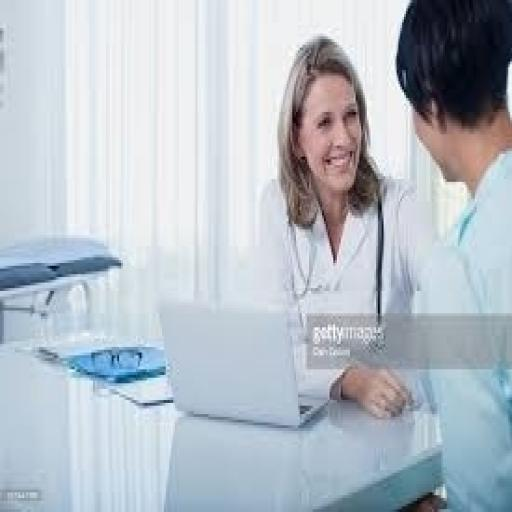sitting: (251, 0, 510, 509)
